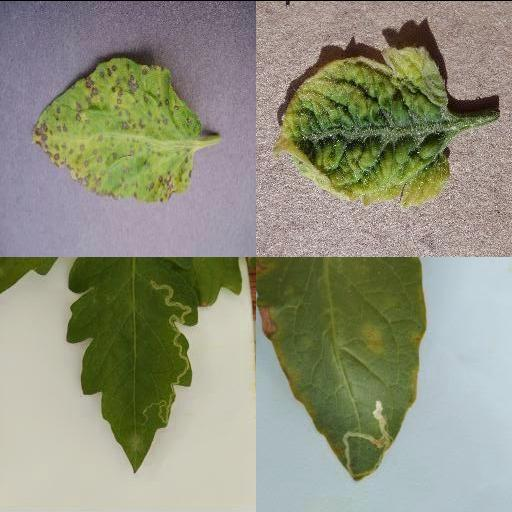Leaf Miner: (256, 256, 427, 484), (65, 256, 197, 475)
Septoria: (31, 54, 203, 200)
Yellow Leaf Curl Virus: (272, 46, 448, 208)
